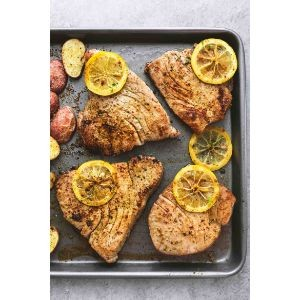tuna_brain food: (82, 51, 211, 149), (59, 160, 153, 262), (158, 174, 230, 258)
